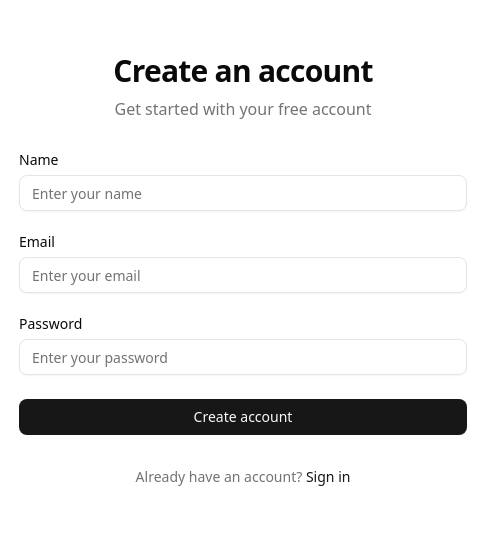
Test: Register › shows confirmation message when email confirmation is required
Type "John Doe" into the field labelled "Name" at [243, 193], box x1=19 y1=175 x2=467 y2=211
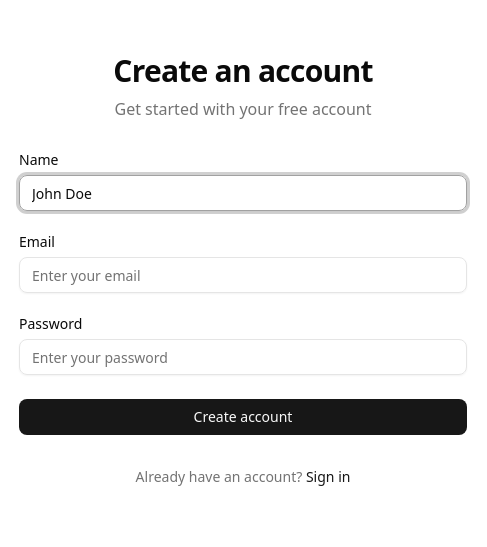
Type "john@example.com" into the field labelled "Email" at [243, 275], box x1=19 y1=257 x2=467 y2=293
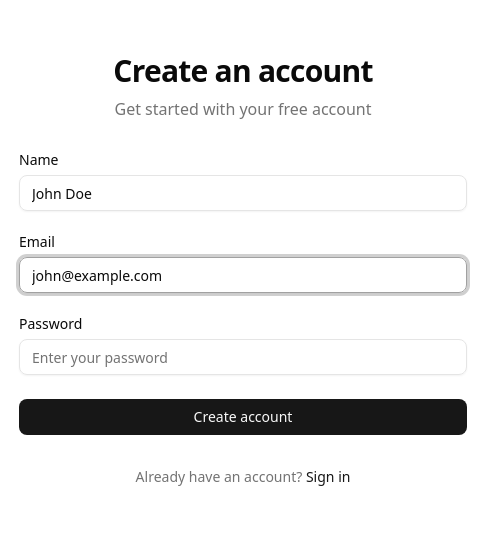
Type "SecurePass1!" into the password field labelled "Password" at [243, 357], box x1=19 y1=339 x2=467 y2=375
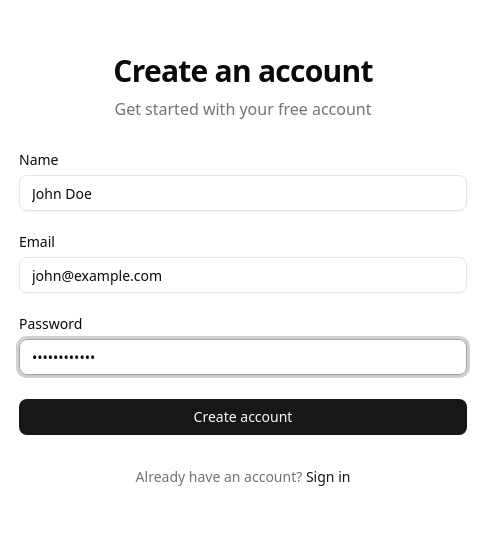
Click the button "Create account" at [243, 417], box x1=19 y1=399 x2=467 y2=435
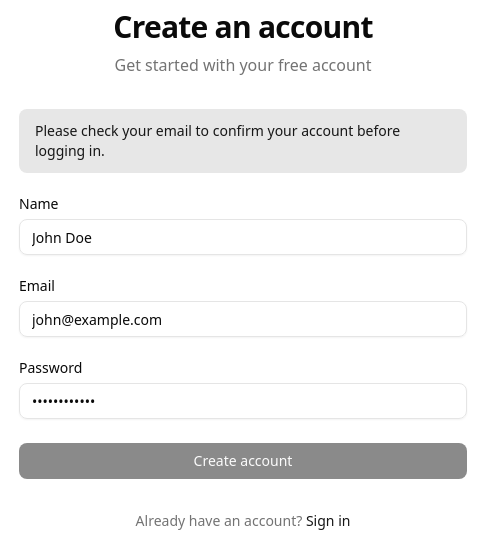
Now the text "Please check your email to confirm your account before logging in." is shown, box x1=19 y1=109 x2=467 y2=173
Now the button "Create account" is disabled, box x1=19 y1=443 x2=467 y2=479
